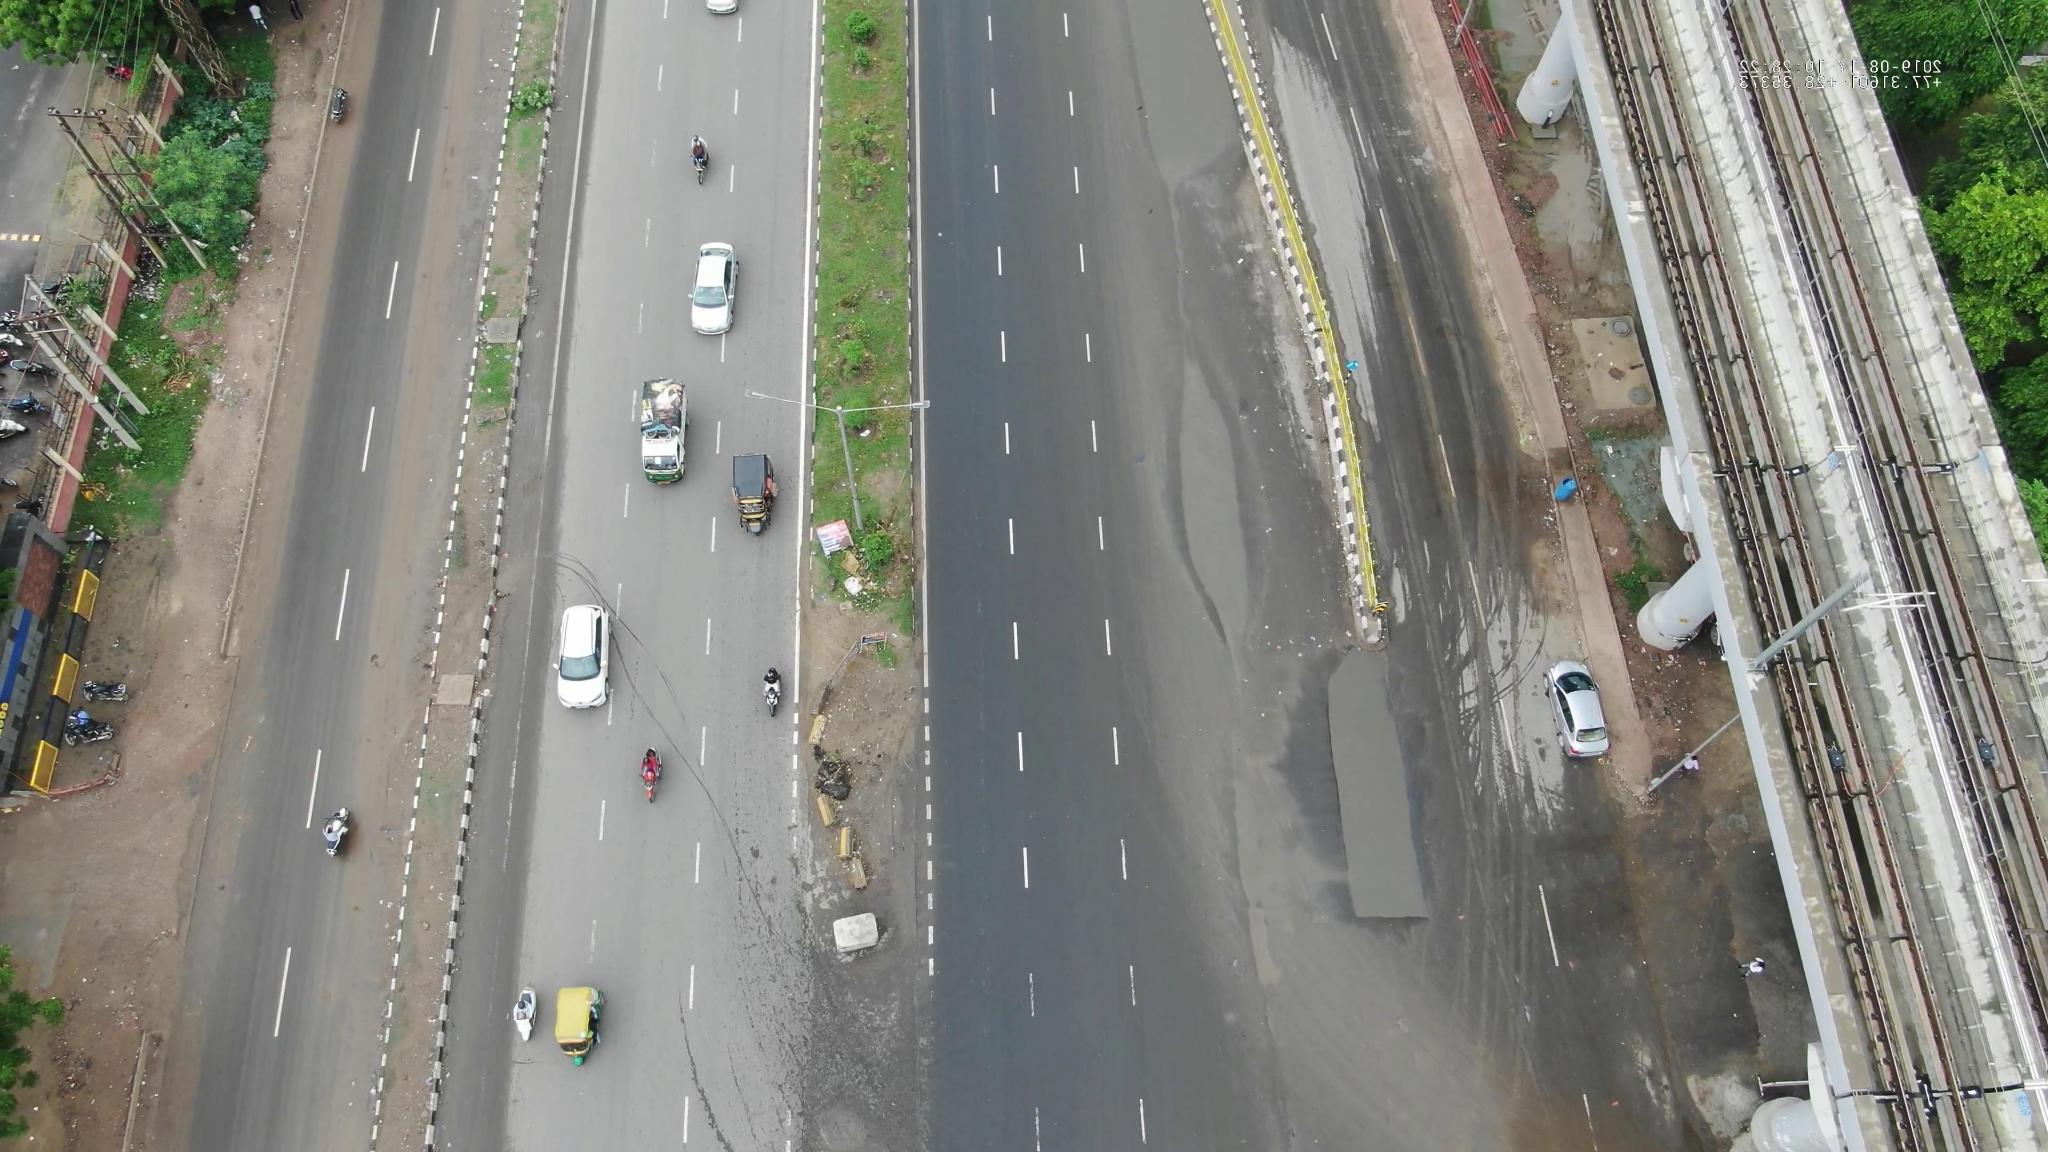Muddy_road: (399, 101, 508, 333), (371, 346, 466, 585), (347, 610, 429, 883), (311, 916, 399, 1106)
Potholes: (1135, 329, 1272, 664), (1315, 613, 1447, 940)
Waterlogging: (1108, 1, 1260, 179)
